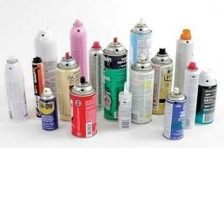aerosol_cans: (31, 19, 61, 115), (126, 14, 156, 105), (101, 33, 131, 123), (123, 52, 157, 127), (170, 24, 198, 112), (144, 41, 176, 117), (52, 48, 83, 123), (67, 76, 101, 140), (2, 51, 31, 124), (66, 16, 91, 100), (176, 58, 203, 132), (192, 64, 221, 128), (84, 36, 108, 113), (159, 85, 190, 142), (28, 53, 49, 120), (113, 79, 137, 132), (38, 82, 60, 132)
